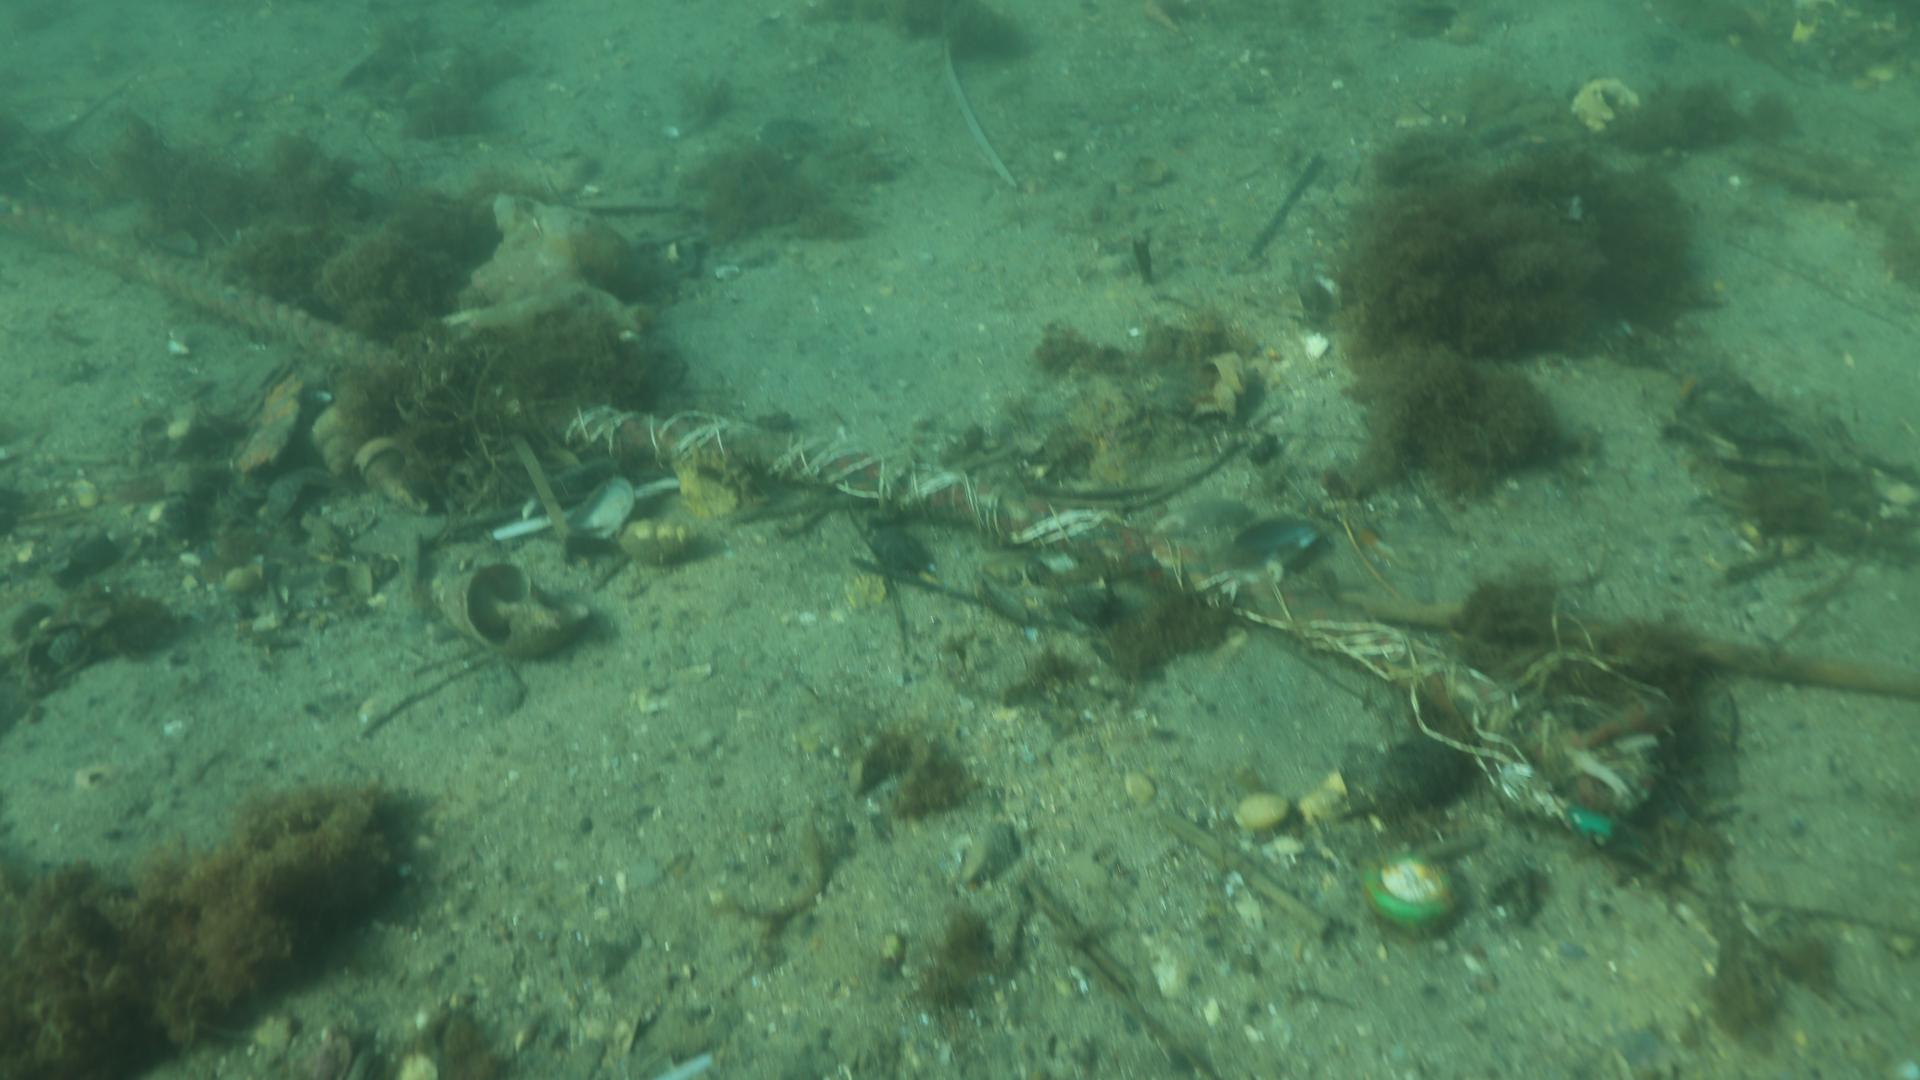rope: (0, 187, 1636, 823)
